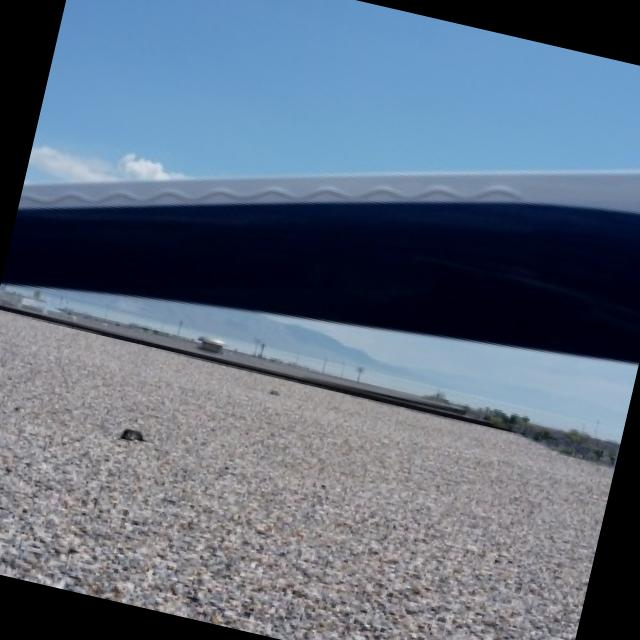healthy: (3, 170, 640, 359)
